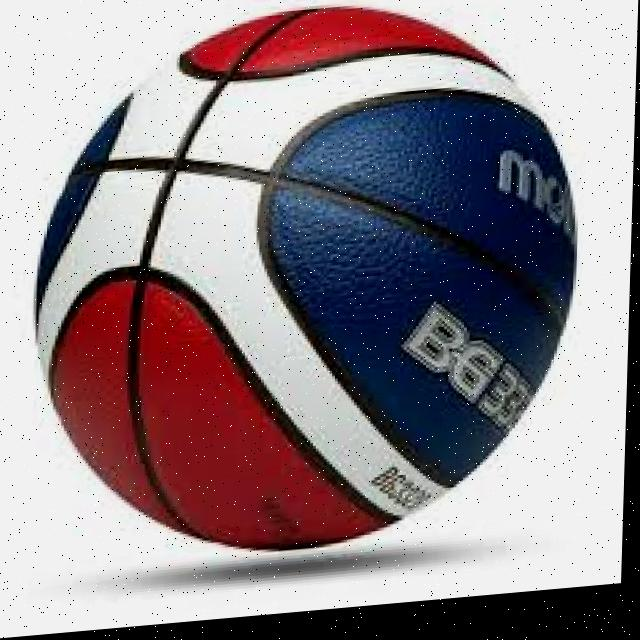Basketball: (23, 0, 584, 572)
